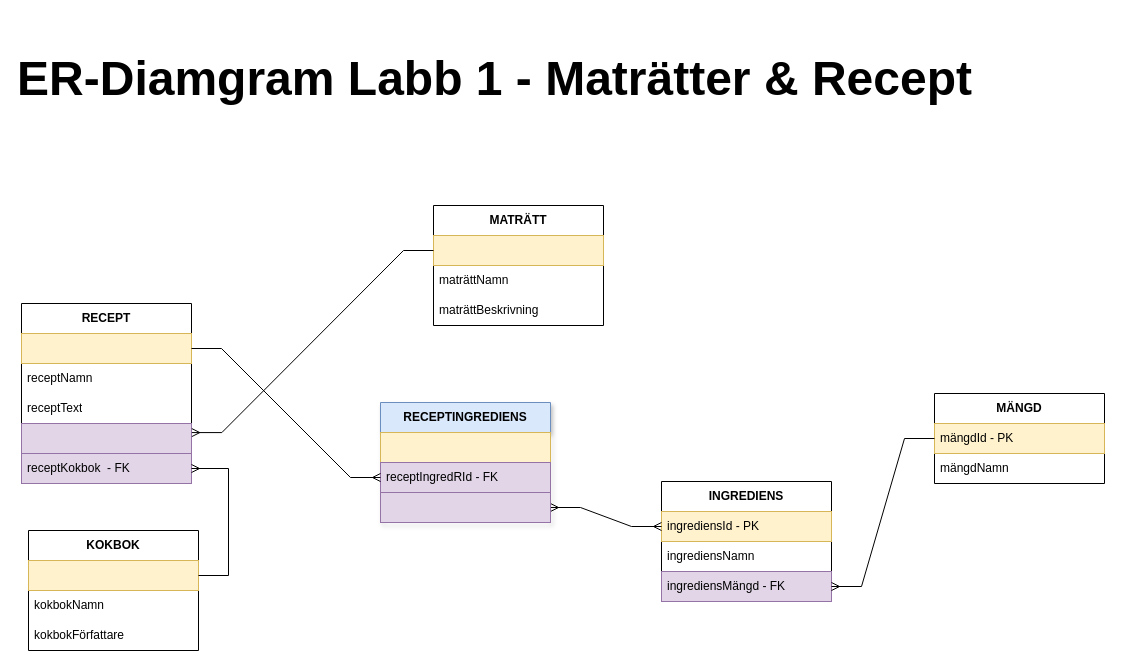
The diagram is 1122 pixels wide and 668 high, and some of its shapes have lost their labels. The shapes that lost their labels are listed below. From the top down, each one's centre as x and y in pixels, then its label:
point 518,250: maträttID - PK
point 106,348: receptID - PK
point 106,438: receptMaträtt - FK
point 465,447: receptIngredID - PK
point 465,507: receptIngredIId - FK
point 113,575: kokbokID - PK
